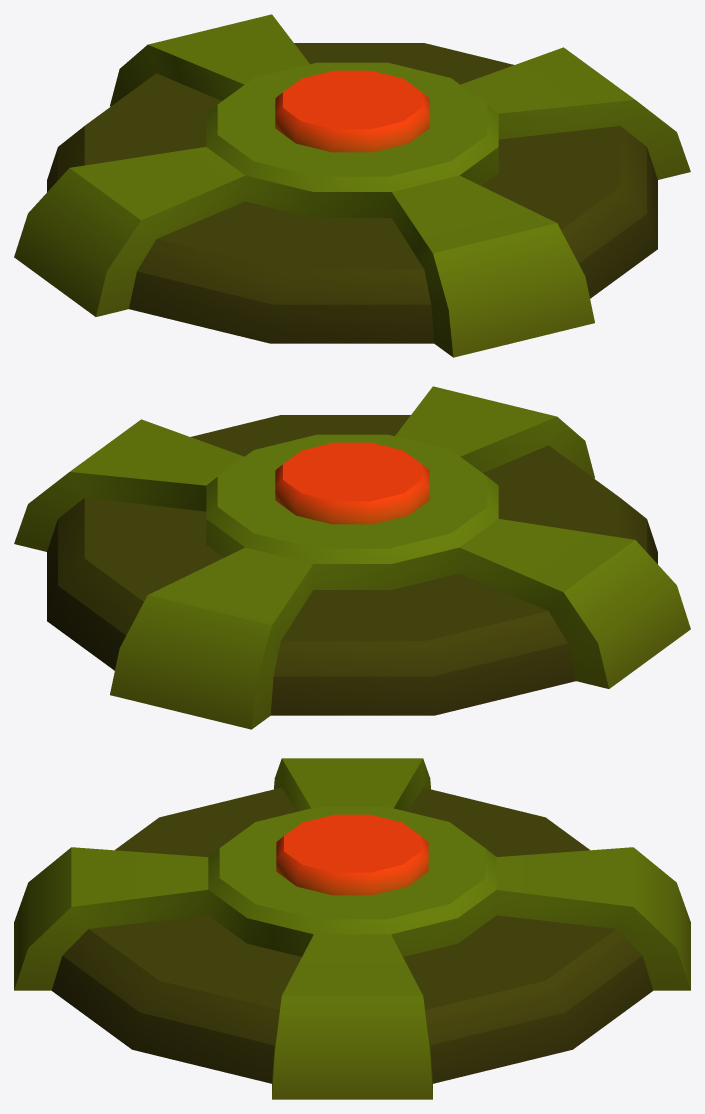
The model's file is Weapon_Land_Mine_01.fbx.
3 renders of one model, top to bottom at view 1: azimuth 30°, elevation 25°; view 2: azimuth 150°, elevation 25°; view 3: azimuth 270°, elevation 25°, orthographic.
Visible parts, largest first — view 1: Weapon_Land_Mine_01; view 2: Weapon_Land_Mine_01; view 3: Weapon_Land_Mine_01.
Part boxes in pixels (<box>): Weapon_Land_Mine_01: <box>14,14,690,357</box>; Weapon_Land_Mine_01: <box>14,386,690,729</box>; Weapon_Land_Mine_01: <box>14,758,690,1099</box>.
Size of the model in its own units: 34.67 by 6.38 by 34.67.
